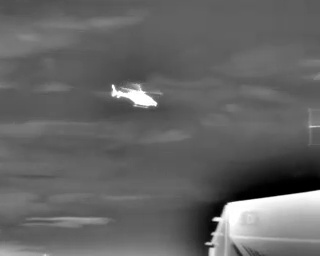HELICOPTER: (108, 73, 170, 116)
